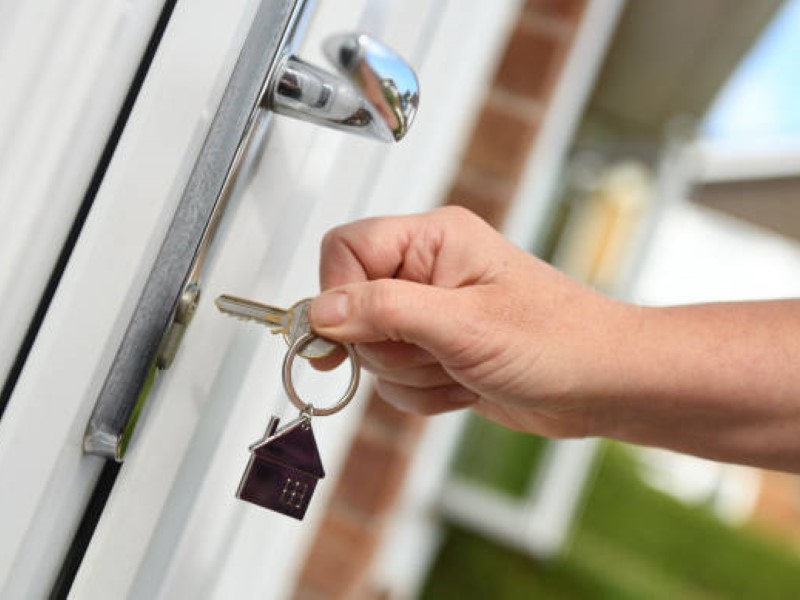key: (211, 289, 346, 363)
